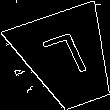L_S: (40, 30, 95, 88)
